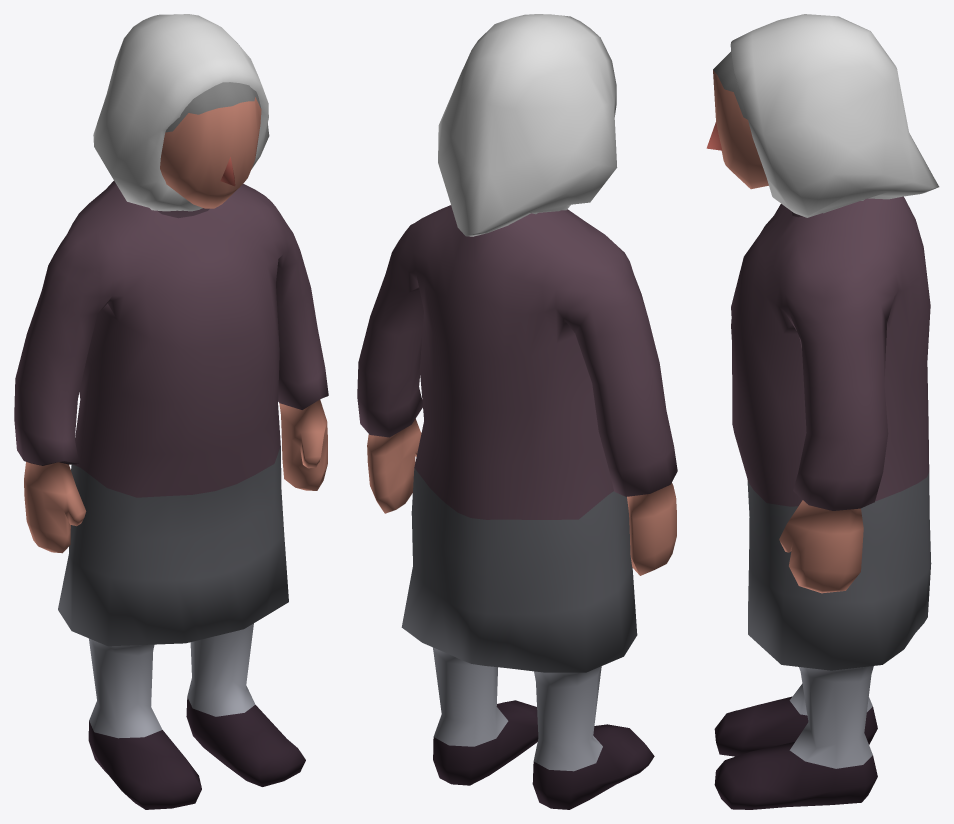
Rendered from CHAR_OldLady.fbx.
3 renders of one model, left to right at view 1: azimuth 30°, elevation 25°; view 2: azimuth 150°, elevation 25°; view 3: azimuth 270°, elevation 25°, orthographic.
Parts seen in each view (by area): view 1: Character_OldLady, OldLady_Shawl; view 2: Character_OldLady, OldLady_Shawl; view 3: Character_OldLady, OldLady_Shawl.
Part boxes in pixels (x1,y1,x2,y2): Character_OldLady: (14,82,328,809); OldLady_Shawl: (93,14,269,211); Character_OldLady: (357,205,677,809); OldLady_Shawl: (438,14,617,236); Character_OldLady: (706,51,931,809); OldLady_Shawl: (730,14,939,217).
Size of the model in its own units: 0.6675 by 1.58 by 0.4456.
